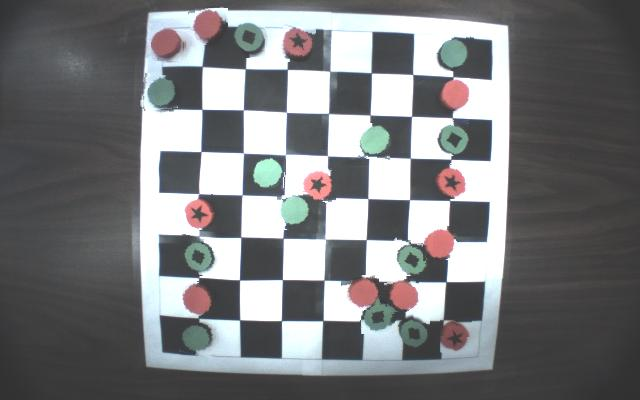G: (175, 236, 218, 276), (390, 237, 429, 276), (432, 119, 469, 156), (229, 20, 265, 58), (361, 297, 397, 334), (395, 313, 430, 349)
R: (278, 24, 315, 62), (300, 165, 337, 202), (178, 194, 215, 231), (431, 162, 468, 199), (440, 319, 472, 353)
g: (436, 34, 474, 71), (141, 75, 178, 111), (278, 192, 313, 229), (180, 322, 218, 356), (359, 123, 393, 160), (250, 157, 286, 191)
r: (190, 8, 228, 46), (343, 275, 379, 312), (178, 280, 214, 316), (423, 226, 458, 261), (152, 26, 186, 61), (436, 78, 470, 112), (385, 279, 419, 312)
